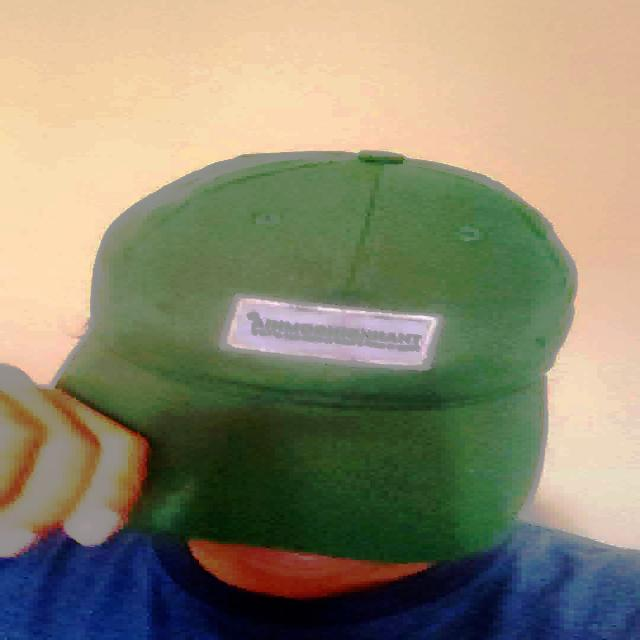TOPI: (58, 142, 582, 566)
